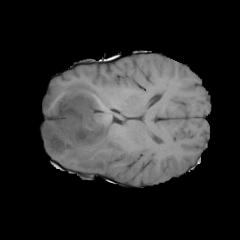glioma: (43, 82, 124, 173)
